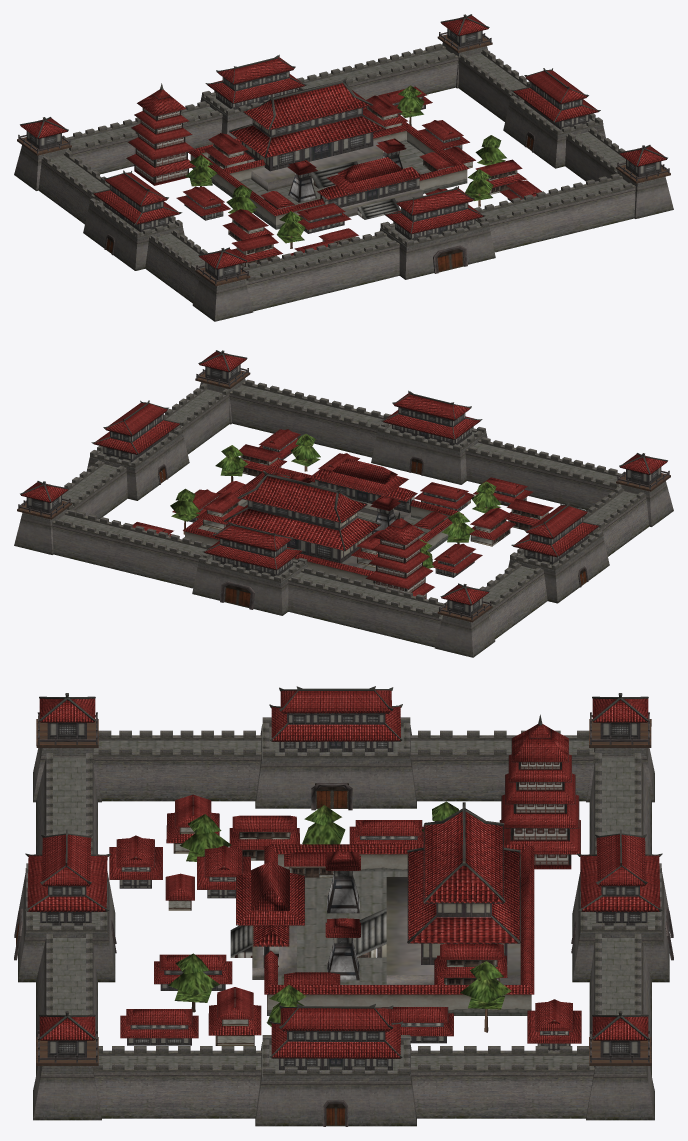
The model's file is CASTLE_red.fbx.
3 renders of one model, top to bottom at view 1: azimuth 30°, elevation 25°; view 2: azimuth 150°, elevation 25°; view 3: azimuth 270°, elevation 25°, orthographic. The views are drawn at different scales.
Parts seen in each view (by area): view 1: polySurface22449_lambert26_0.002; view 2: polySurface22449_lambert26_0.002; view 3: polySurface22449_lambert26_0.002.
Boxes of the visible parts, bbox=[...] form: polySurface22449_lambert26_0.002: bbox=[14, 14, 673, 321]; polySurface22449_lambert26_0.002: bbox=[14, 350, 673, 657]; polySurface22449_lambert26_0.002: bbox=[14, 686, 673, 1126].
Bounding box in the file's own units: 39296 × 7353 × 30428.
